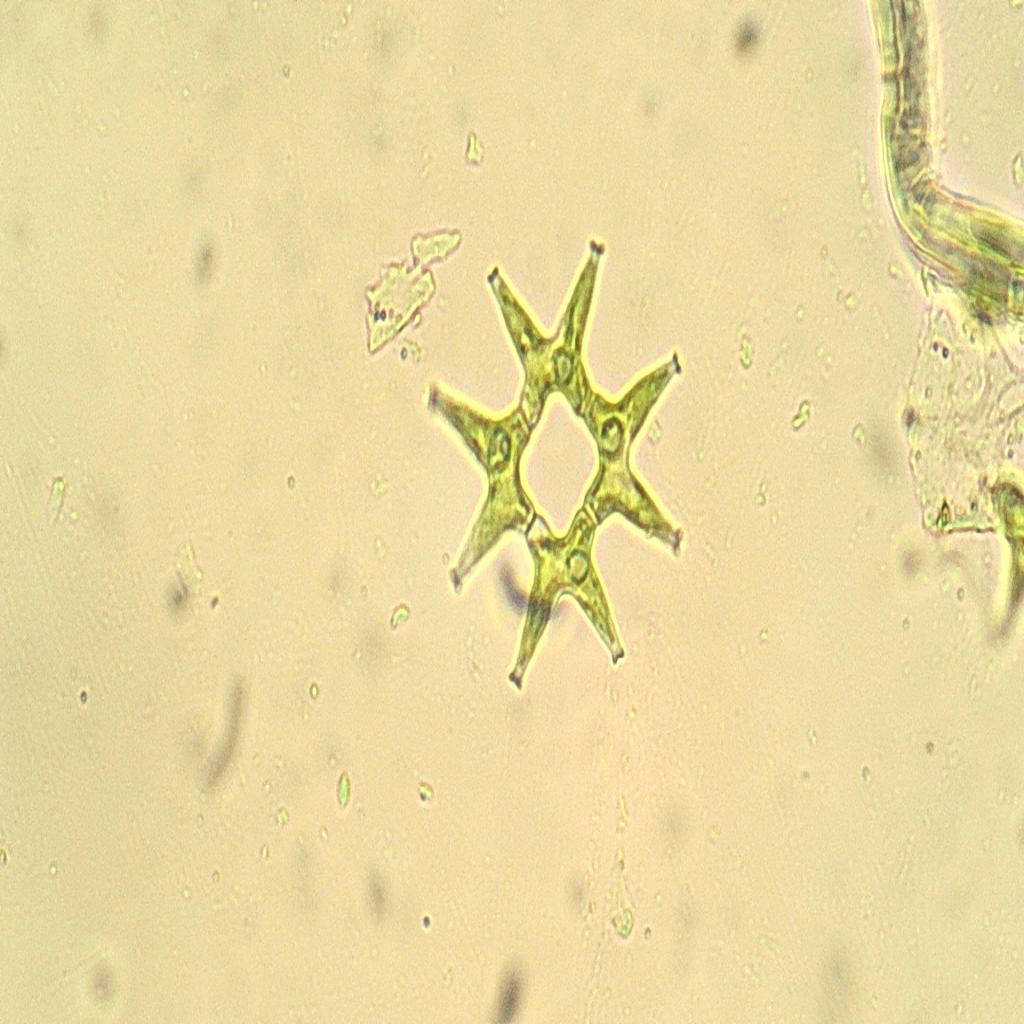Pediastrum_CO: (392, 222, 718, 720)
